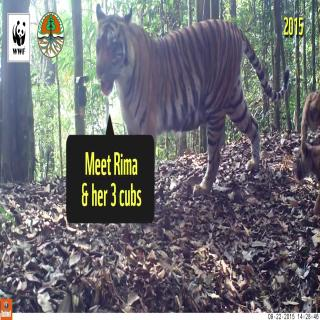Tiger: (93, 2, 286, 178)
